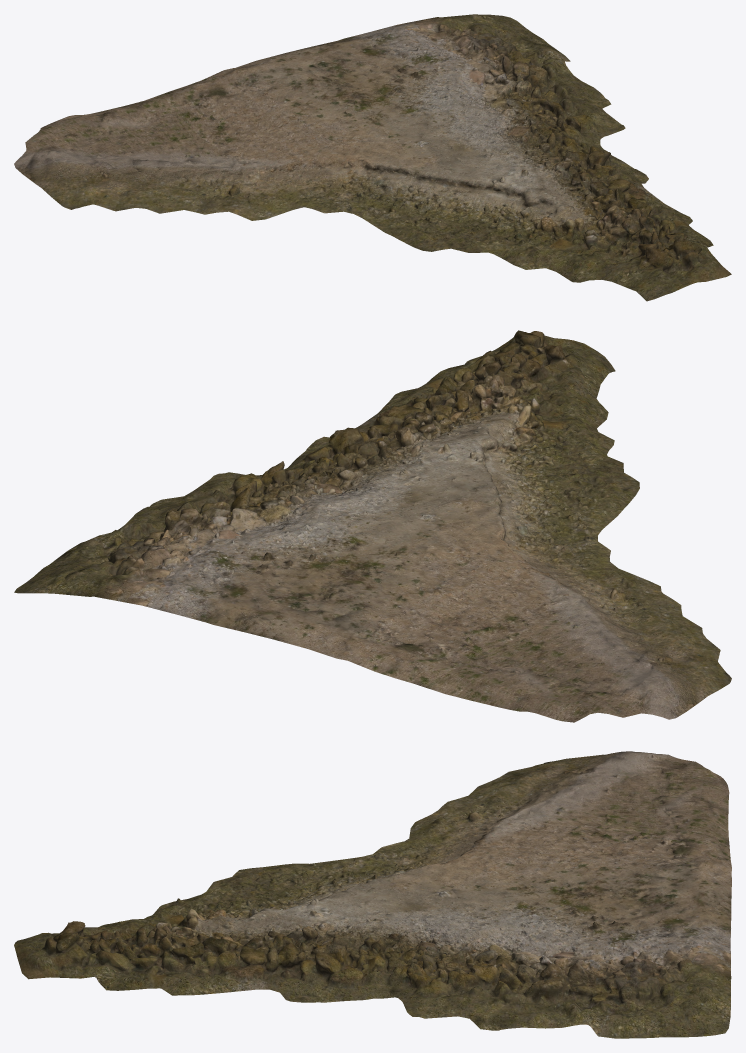
The model's file is coast_rocks_02.glb.
3 views of the same model, one above another, from view 1: azimuth 30°, elevation 25°; view 2: azimuth 150°, elevation 25°; view 3: azimuth 270°, elevation 25° (orthographic). The views are drawn at different scales.
Parts seen in each view (by area): view 1: coast_rocks_02; view 2: coast_rocks_02; view 3: coast_rocks_02.
Boxes of the visible parts, x1,y1,x2,y2 form: coast_rocks_02: (14, 14, 731, 301); coast_rocks_02: (14, 330, 731, 722); coast_rocks_02: (14, 751, 731, 1038).
Bounding box in the file's own units: 45.96 × 3.16 × 49.46.
Materials: 1 (1 with a texture image).
